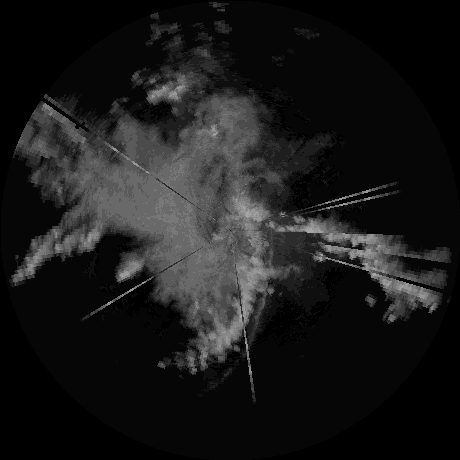frontgust: (222, 286, 267, 383)
